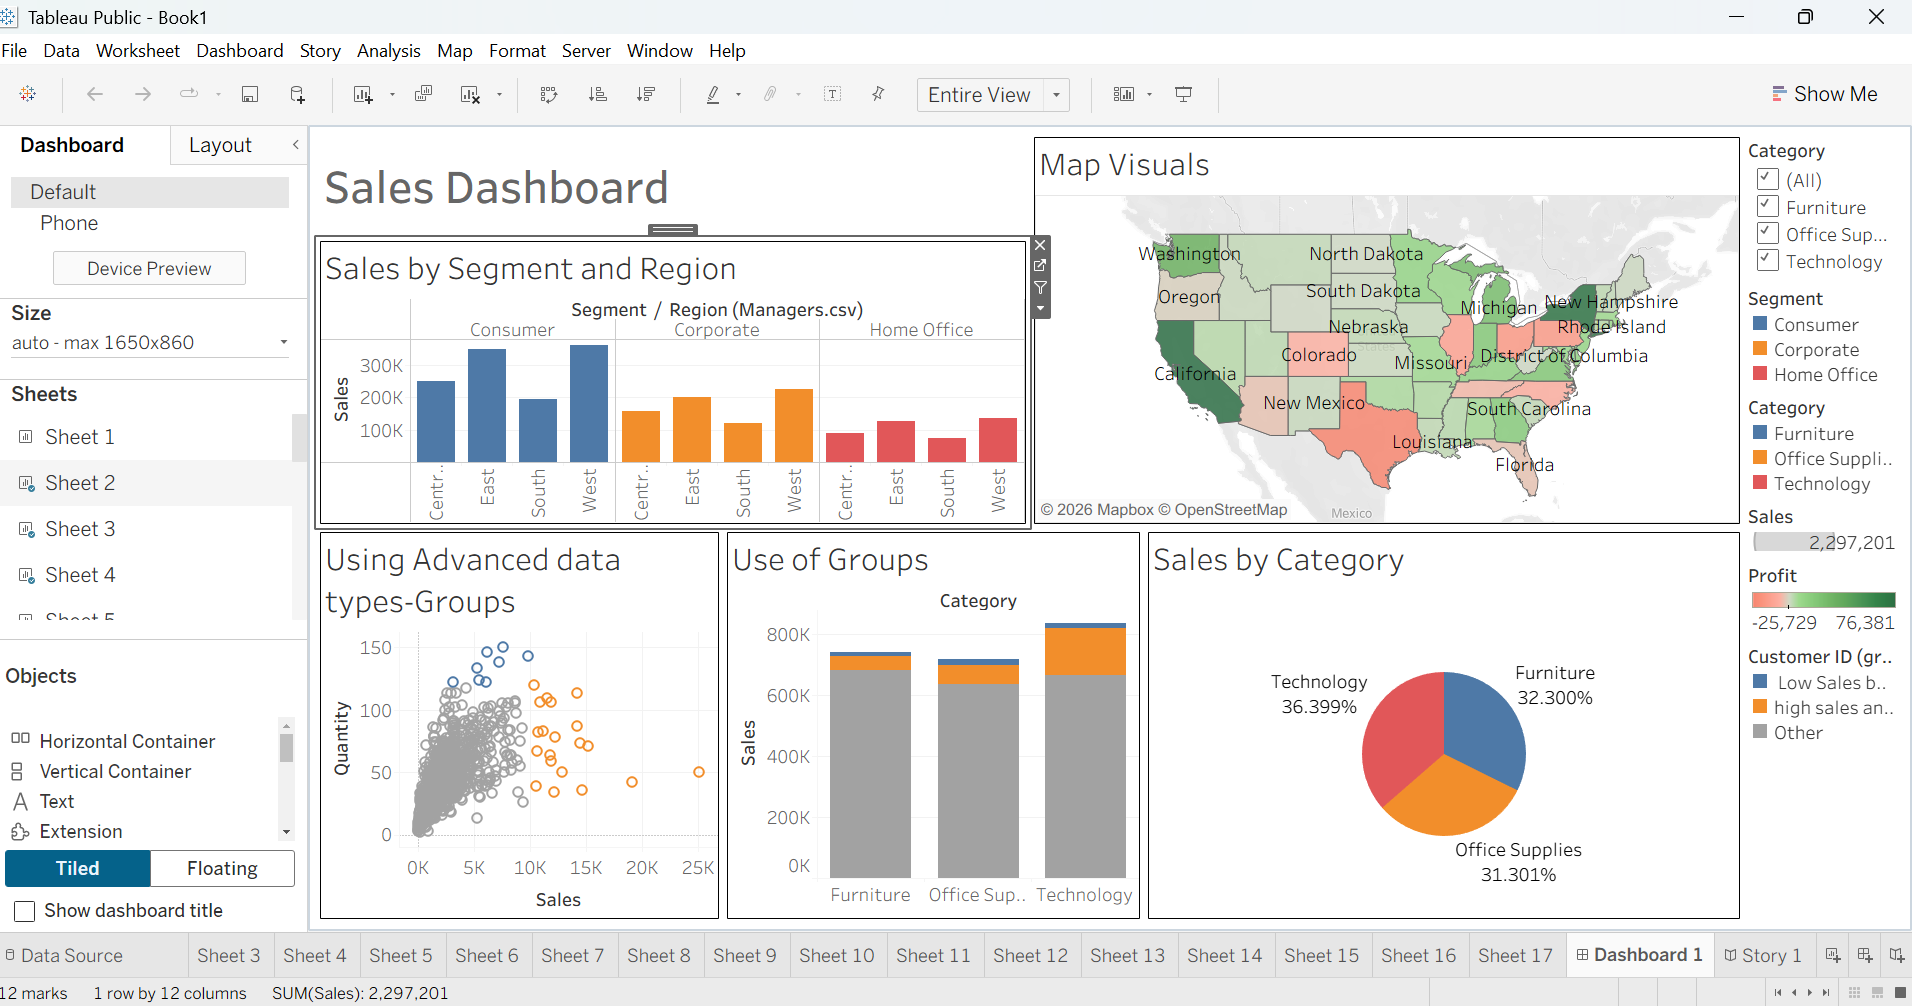

What the dashboard file says about the page in this screenshot:
{"tool":"tableau","page":{"name":"Dashboard 1","canvas":[1000,1000],"units":"permille","ordinal":0},"visuals":[{"type":"text","box":[4.9,9.3,446.7,129.2]},{"type":"worksheet","title":"Sheet 4","mark":"Automatic","box":[451.5,9.3,446.7,490.7]},{"type":"filter","title":"Sheet 2","param":"[federated.1yo4dkk0m4uhe0139ao0d090d05g].[none:Category:nk]","box":[898.2,9.3,97,172.1]},{"type":"worksheet","title":"Sheet 2","mark":"Automatic","rows":["Sales"],"cols":["Segment","Region (Managers.csv)"],"box":[4.9,138.5,446.7,361.5]},{"type":"legend","title":"Sheet 2","param":"[federated.1yo4dkk0m4uhe0139ao0d090d05g].[none:Segment:nk]","box":[898.2,181.4,97,126.7]},{"type":"legend","title":"Sheet 3","param":"[federated.1yo4dkk0m4uhe0139ao0d090d05g].[none:Category:nk]","box":[898.2,308.1,97,126.7]},{"type":"legend","title":"Sheet 3","param":"[federated.1yo4dkk0m4uhe0139ao0d090d05g].[sum:Sales:qk]","box":[898.2,434.9,97,68.6]},{"type":"worksheet","title":"Sheet 7","mark":"Automatic","rows":["Quantity"],"cols":["Sales"],"box":[4.9,500,254.6,490.7]},{"type":"worksheet","title":"Sheet 8","mark":"Automatic","rows":["Sales"],"cols":["Category"],"box":[259.5,500,263.4,490.7]},{"type":"worksheet","title":"Sheet 3","mark":"Pie","box":[522.8,500,375.4,490.7]},{"type":"legend","title":"Sheet 4","param":"[federated.1yo4dkk0m4uhe0139ao0d090d05g].[sum:Profit:qk]","box":[898.2,503.5,97,94.2]},{"type":"legend","title":"Sheet 7","param":"[federated.1yo4dkk0m4uhe0139ao0d090d05g].[Customer ID (group)]","box":[898.2,597.6,97,126.7]}]}

Visuals, with their boxes on the dashboard's canvas, which has no fixed pixel size, in thousandths of its width and height (x1, y1, x2, y2). These are canvas units, not pixel positions in the 1912x1006 screenshot, which may show the page scaled, cropped or inside an application window:
text: [5,9,452,138]
"Sheet 4" worksheet: [452,9,898,500]
"Sheet 2" filter: [898,9,995,181]
"Sheet 2" worksheet: [5,138,452,500]
"Sheet 2" legend: [898,181,995,308]
"Sheet 3" legend: [898,308,995,435]
"Sheet 3" legend: [898,435,995,504]
"Sheet 7" worksheet: [5,500,260,991]
"Sheet 8" worksheet: [260,500,523,991]
"Sheet 3" worksheet (Pie marks): [523,500,898,991]
"Sheet 4" legend: [898,504,995,598]
"Sheet 7" legend: [898,598,995,724]
